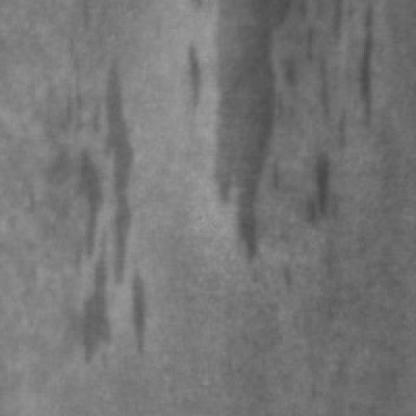inclusion: (41, 65, 150, 370), (175, 6, 285, 275), (279, 8, 376, 162), (293, 146, 337, 239)
